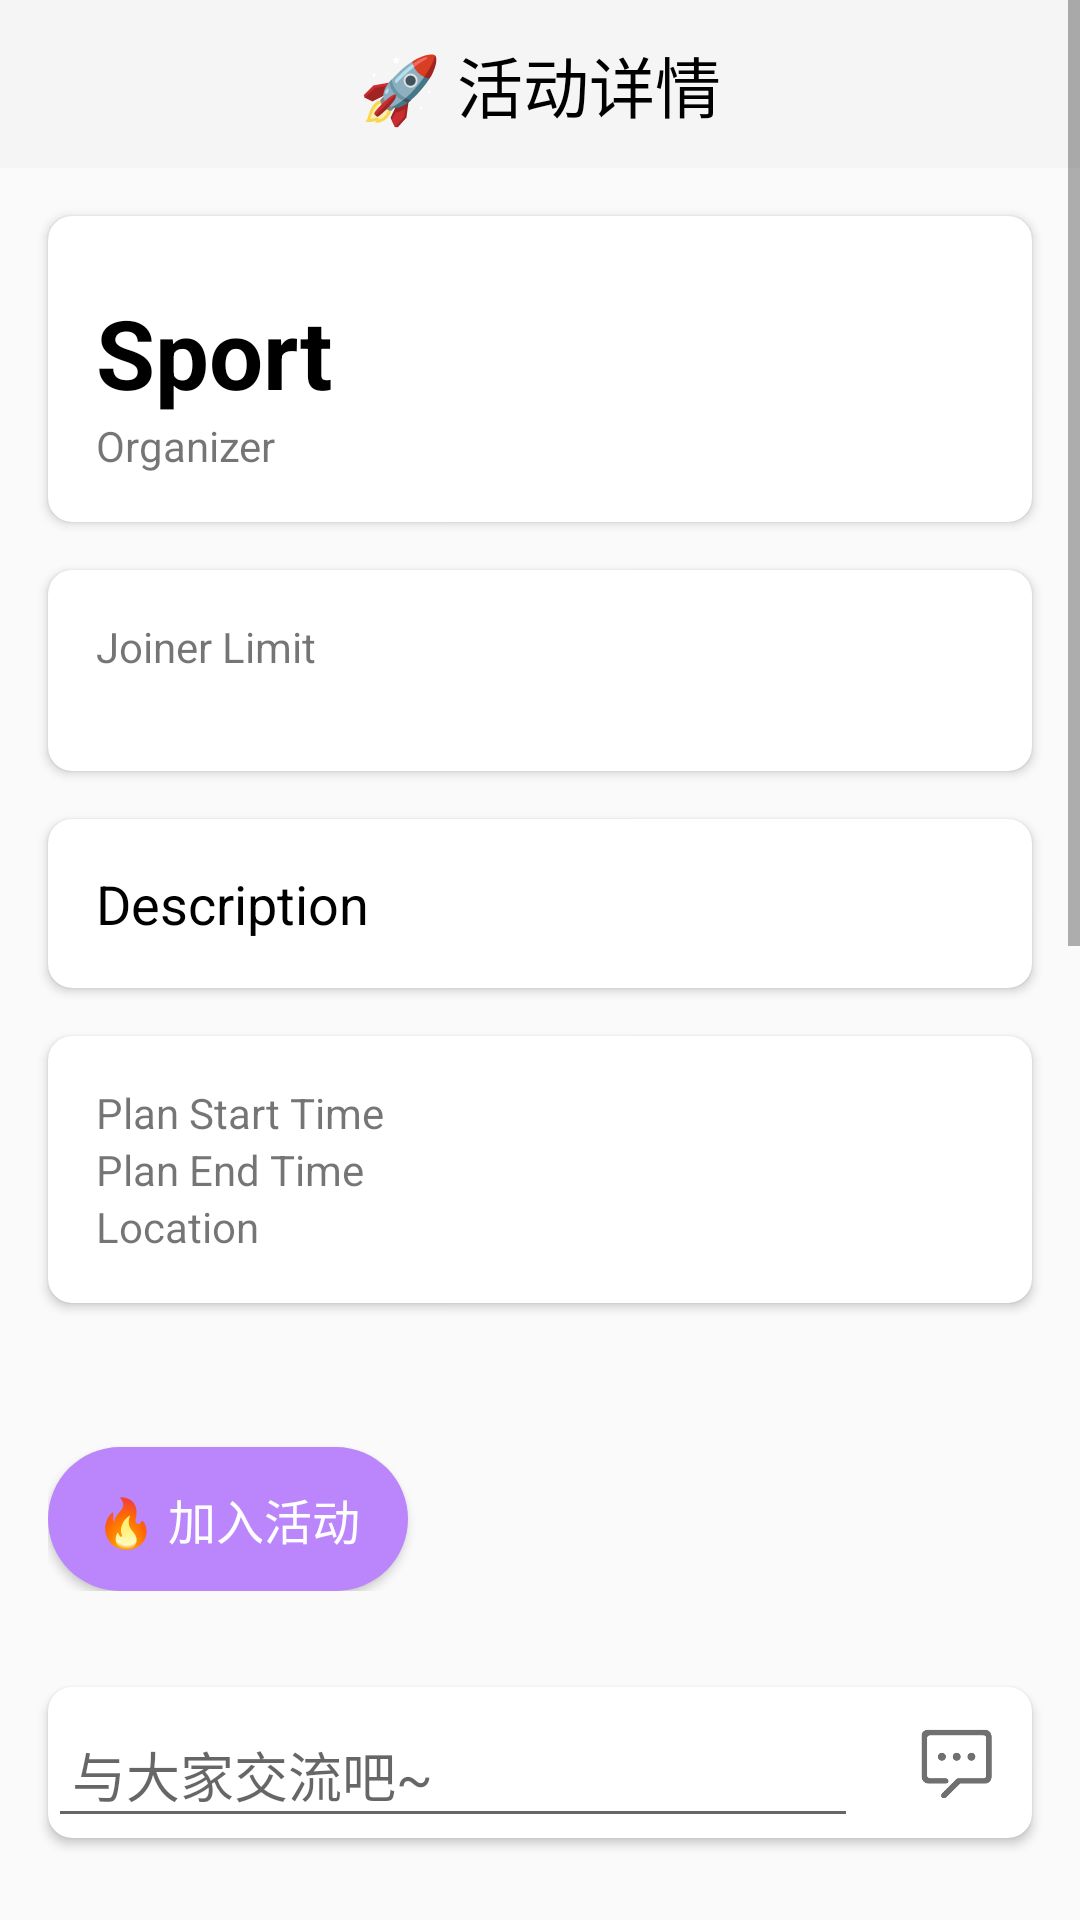

Icons on this 1080w x 1920h Android screen, each with its box as {"left": x1, "top": y1, "right": x2, "bottom": y2}:
comment add: {"left": 921, "top": 1704, "right": 1032, "bottom": 1798}
